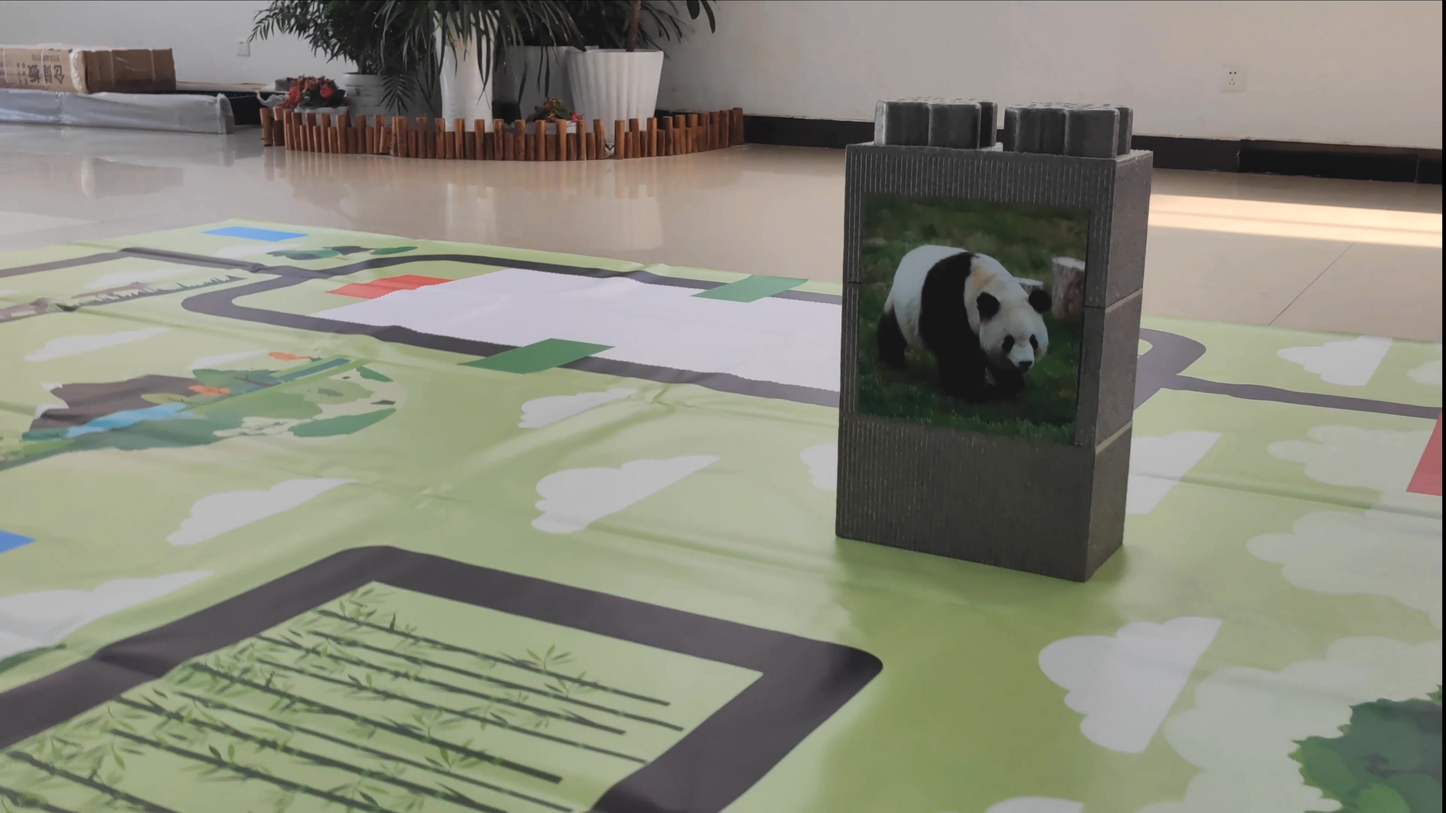panda: (863, 199, 1075, 423)
